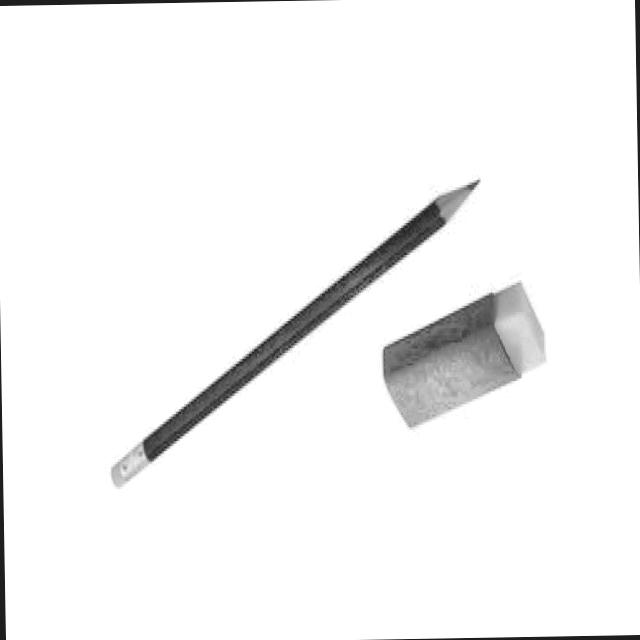eraser: (378, 260, 550, 460)
